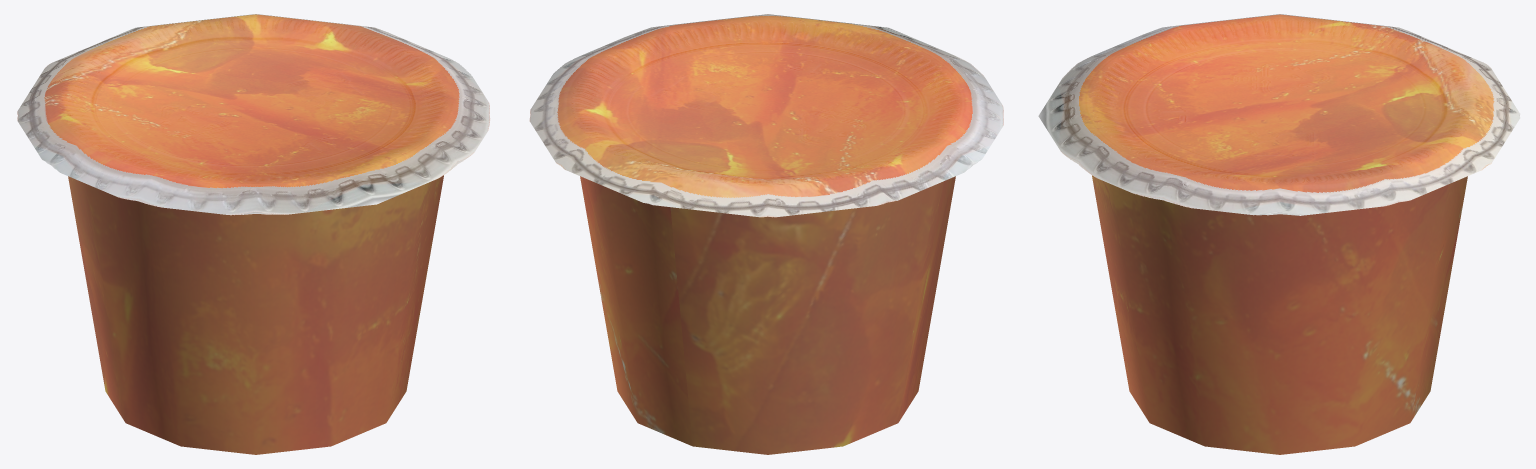
Rendered from SC_Jellocup.fbx.
3 renders of one model, left to right at view 1: azimuth 30°, elevation 25°; view 2: azimuth 150°, elevation 25°; view 3: azimuth 270°, elevation 25°, orthographic.
Visible parts, largest first — view 1: jellocup; view 2: jellocup; view 3: jellocup.
Boxes of the visible parts, <box> form: jellocup: <box>17,14,490,454</box>; jellocup: <box>529,14,1003,454</box>; jellocup: <box>1038,14,1519,454</box>.
Size of what is drawn, in the model's own units: 0.1116 by 0.0739 by 0.1116.
1 material, 1 textured.
